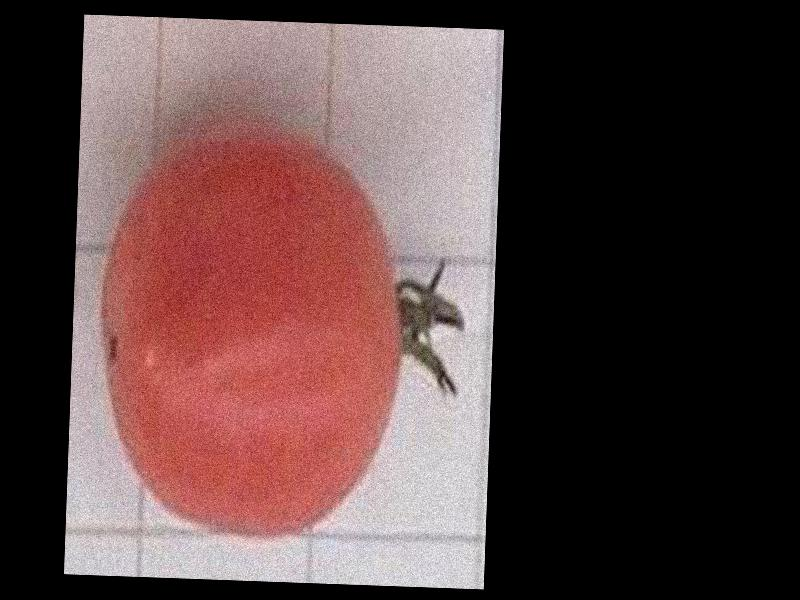Tomato: (92, 121, 407, 541)
